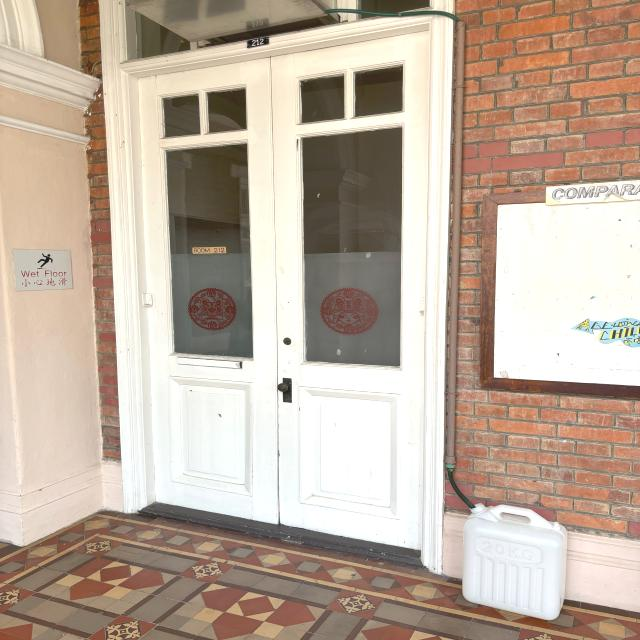MB212_cardboard: (191, 244, 229, 257)
MB212_roomNumber: (245, 36, 271, 49)
